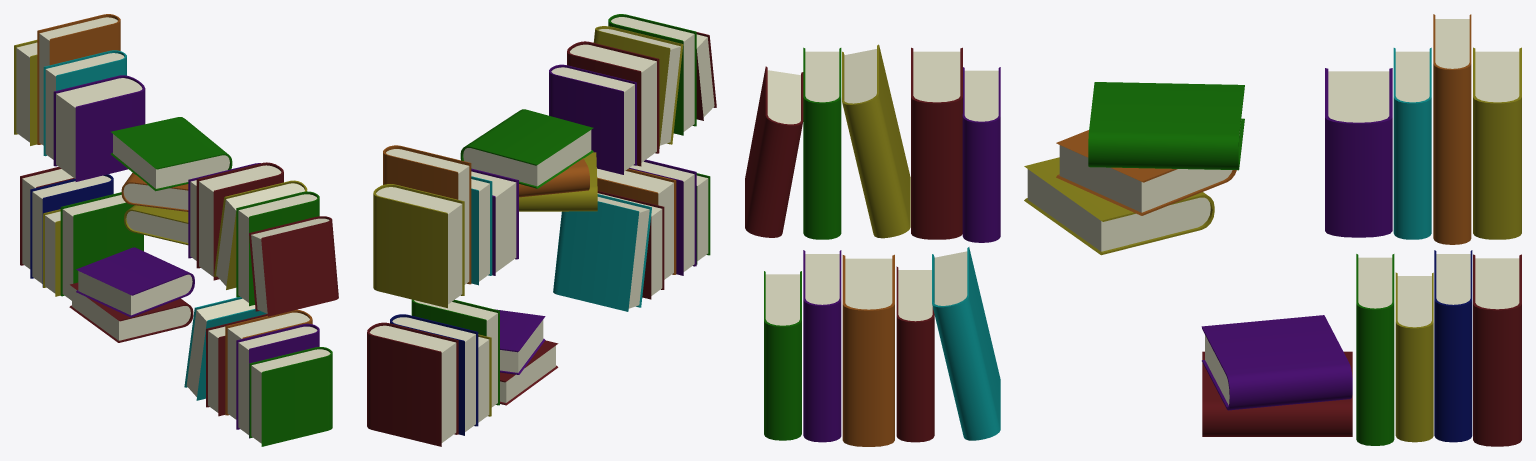
Rendered from books_shelve_01.glb.
3 views of the same model, side by side, from view 1: azimuth 30°, elevation 25°; view 2: azimuth 150°, elevation 25°; view 3: azimuth 270°, elevation 25° (orthographic). The views are drawn at different scales.
Visible parts, largest first — view 1: Cube.487; view 2: Cube.487; view 3: Cube.487.
Part boxes in pixels (x1,y1,x2,y2): Cube.487: [14, 14, 338, 446]; Cube.487: [367, 14, 716, 446]; Cube.487: [745, 14, 1521, 446].
Bounding box in the file's own units: 0.1977 × 0.4187 × 0.7793.
